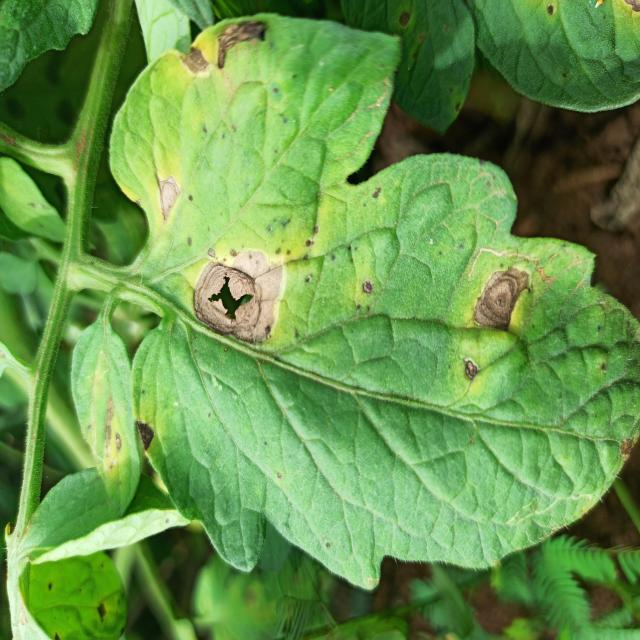Early Blight: (47, 103, 628, 638)
